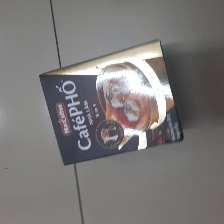CF pho: (38, 39, 184, 167)
